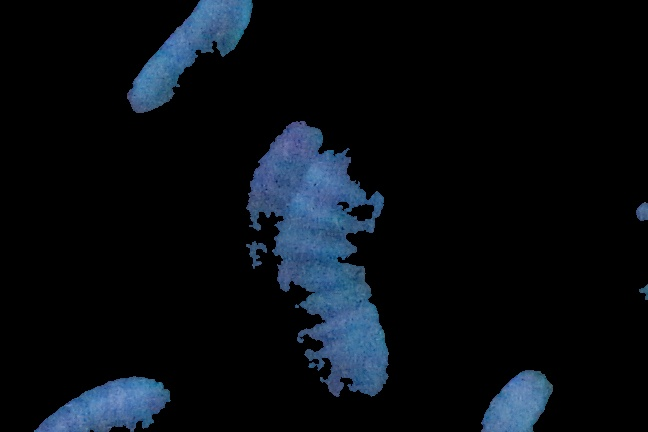larvae: (270, 142, 389, 396), (125, 1, 255, 115), (246, 116, 326, 272), (26, 374, 174, 432), (480, 359, 555, 432)
